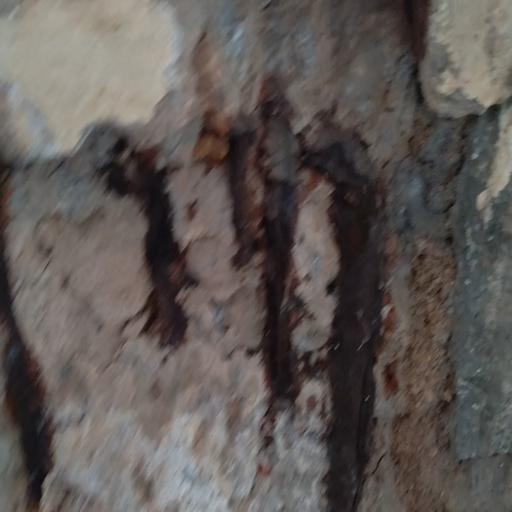spalling: (14, 67, 512, 504)
